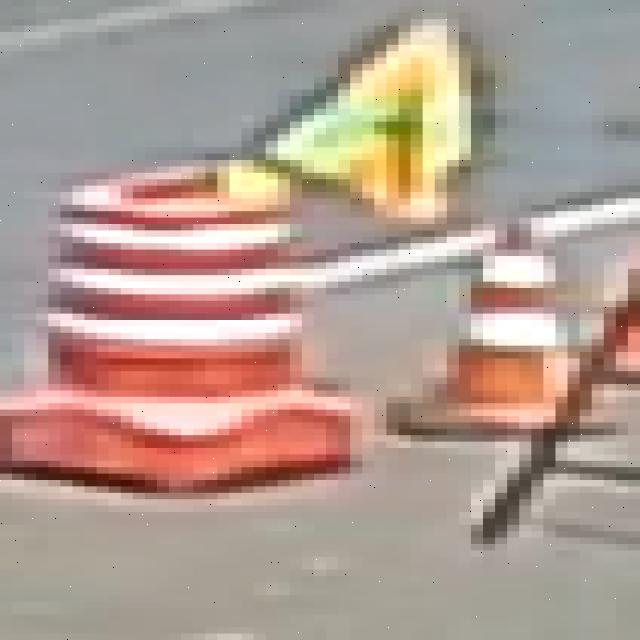big_cone: (68, 173, 307, 468)
small_cone: (441, 225, 573, 433)
